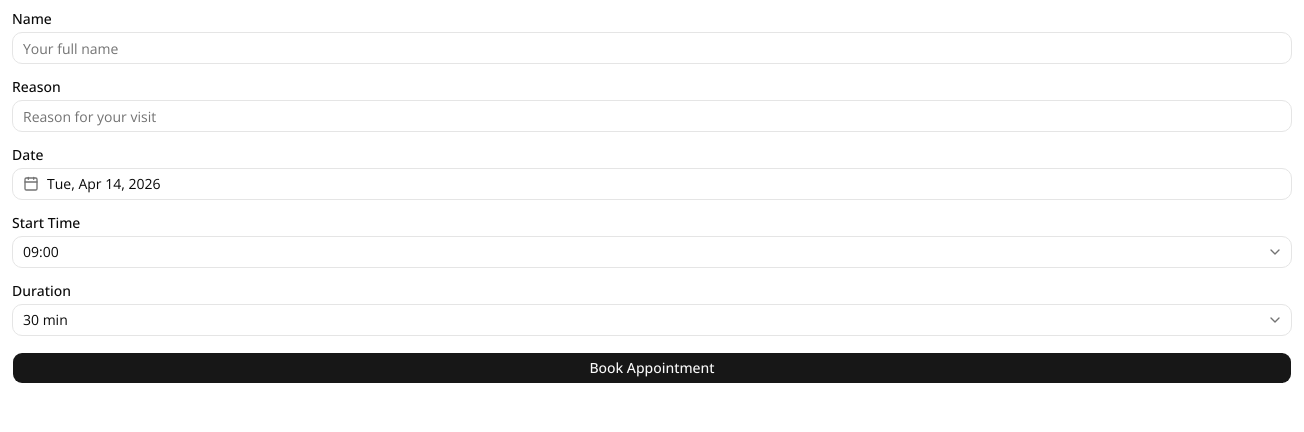
Test: BookingForm › create mode (no booking prop) › error handling › displays generic error message on non-ok response without error field
In the field labelled "Name": (652, 48) [12, 32, 1292, 64], type "John Smith"
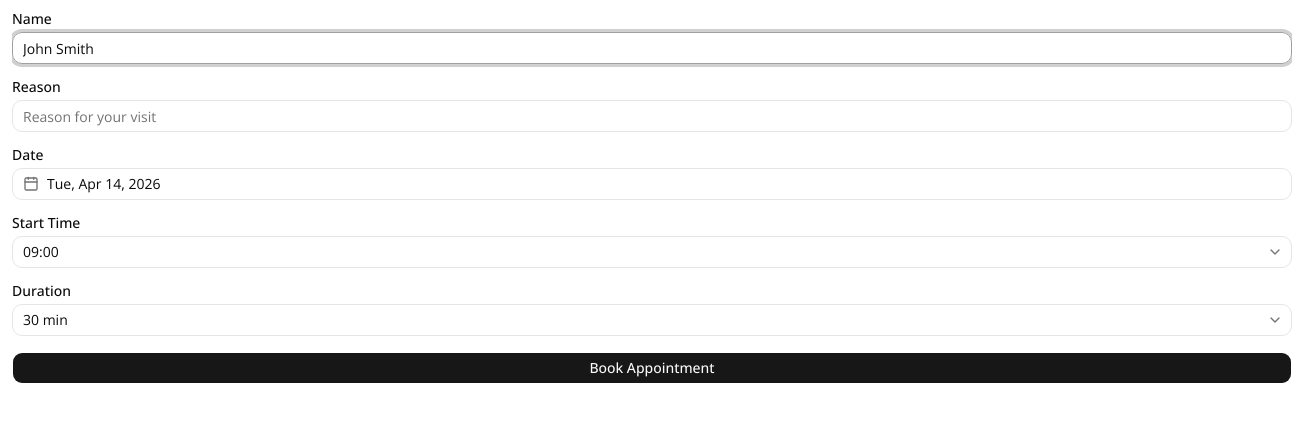
In the field labelled "Reason": (652, 116) [12, 100, 1292, 132], type "Knee pain"
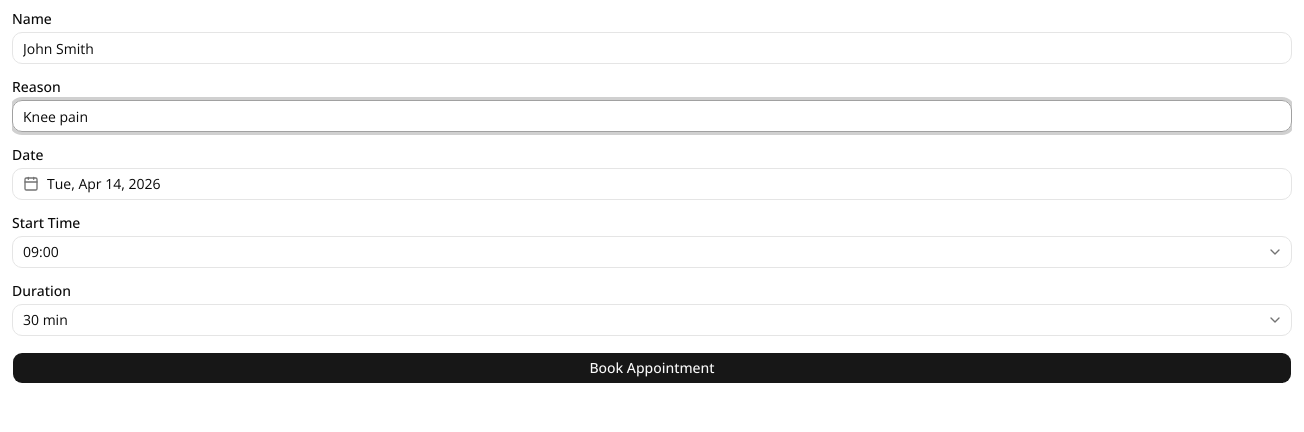
Click the button "Book Appointment": (652, 368) [12, 352, 1292, 384]
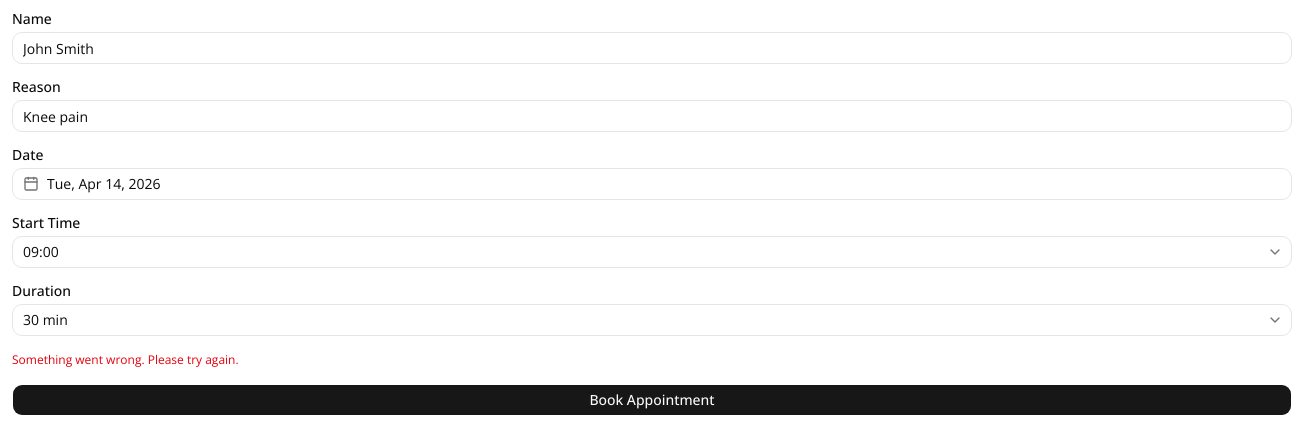
Result: the message reads "Something went wrong. Please try again." at [12, 351, 239, 368]
